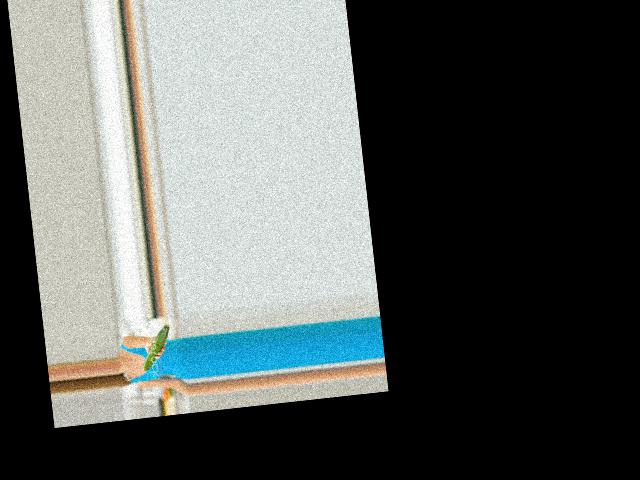cucumber: (138, 325, 174, 371)
